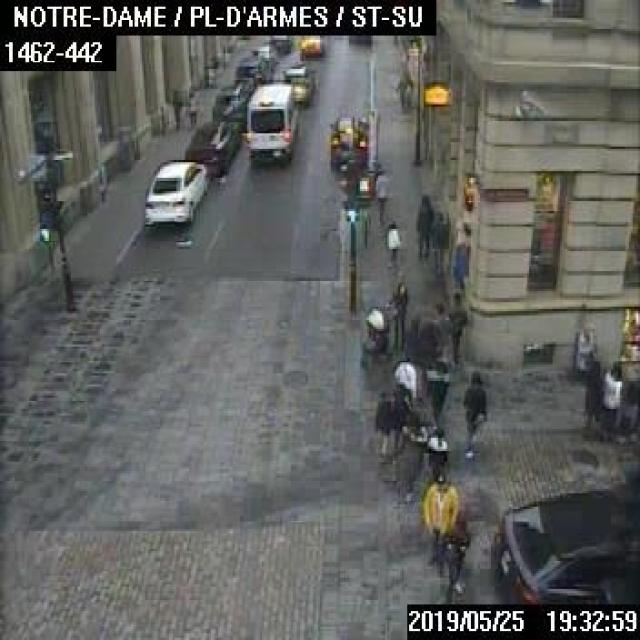pedestrian: (358, 275, 409, 364), (423, 467, 458, 565), (396, 405, 426, 496), (443, 510, 471, 596), (460, 366, 485, 456), (424, 348, 449, 428), (409, 191, 433, 273), (443, 290, 469, 364), (374, 386, 397, 457), (604, 358, 624, 436), (583, 360, 603, 438), (576, 323, 596, 380), (449, 236, 468, 294), (432, 210, 448, 273), (384, 219, 399, 273), (376, 168, 388, 224), (394, 69, 411, 106)
vehicle: (491, 487, 638, 602), (142, 159, 209, 227), (244, 82, 296, 162), (182, 116, 238, 179), (329, 111, 366, 171), (208, 83, 247, 131), (280, 63, 310, 103), (234, 54, 268, 85), (249, 43, 277, 68), (298, 33, 322, 56), (267, 34, 290, 52)
